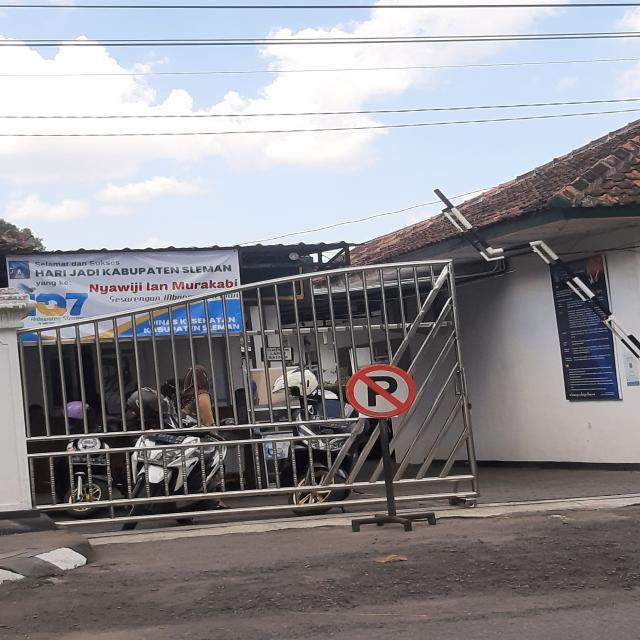Dilarang Parkir: (346, 364, 416, 418)
